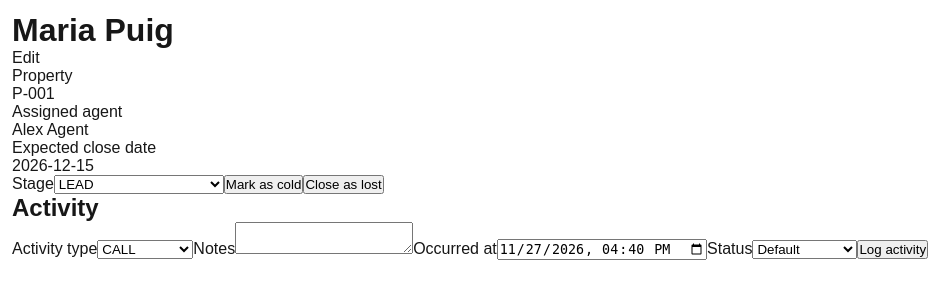
Deal detail view › shows an error message when logging an activity fails
Expected: the link "Maria Puig" is shown, [12, 12, 174, 48]
What coordinates should you click on to do the following:
click the button "Log activity"
I would click on:
 (893, 250)
Its box is [857, 240, 928, 259].
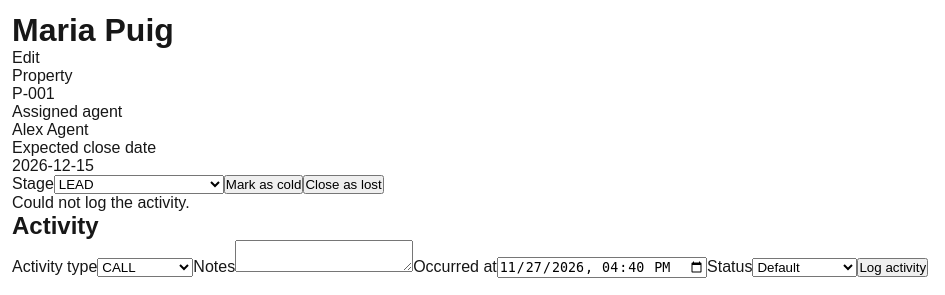
Now the text "Could not log the activity." is shown, box [12, 194, 190, 211]
